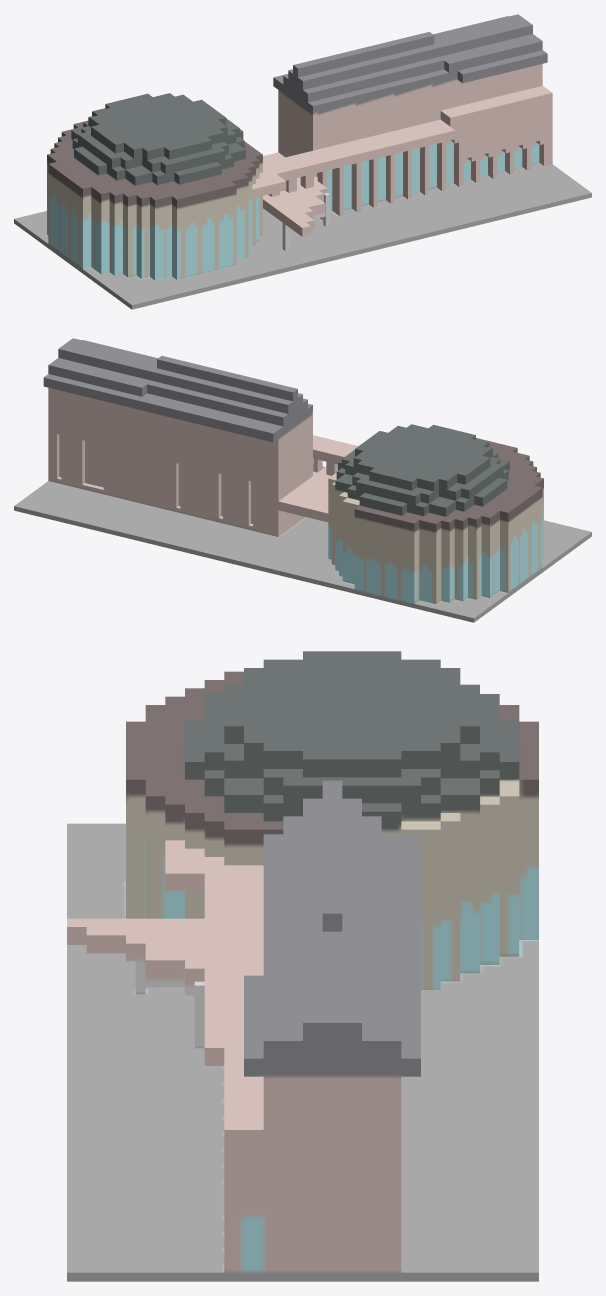
Rendered from kagoshimaarena.glb.
3 renders of one model, top to bottom at view 1: azimuth 30°, elevation 25°; view 2: azimuth 150°, elevation 25°; view 3: azimuth 270°, elevation 25°, orthographic. The views are drawn at different scales.
Parts seen in each view (by area): view 1: kagoshimaarena; view 2: kagoshimaarena; view 3: kagoshimaarena.
Boxes of the visible parts, bbox=[...] form: kagoshimaarena: bbox=[14, 14, 591, 309]; kagoshimaarena: bbox=[14, 338, 591, 622]; kagoshimaarena: bbox=[67, 651, 538, 1281].
Bounding box in the file's own units: 2.16 × 0.62 × 0.96.
1 material, 1 textured.
